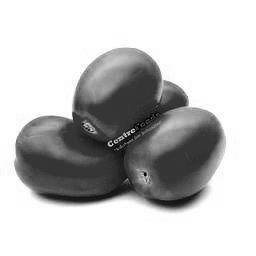bukan telur: (125, 107, 225, 199), (15, 115, 125, 194), (74, 47, 162, 135)
